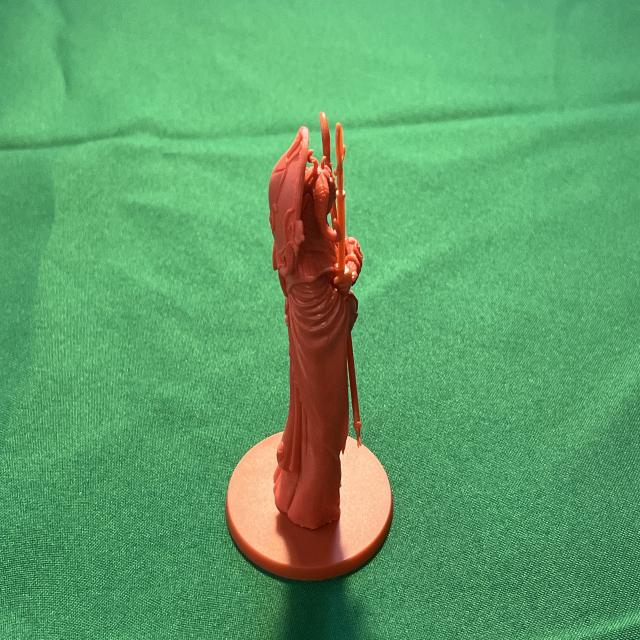amon: (224, 104, 396, 586)
